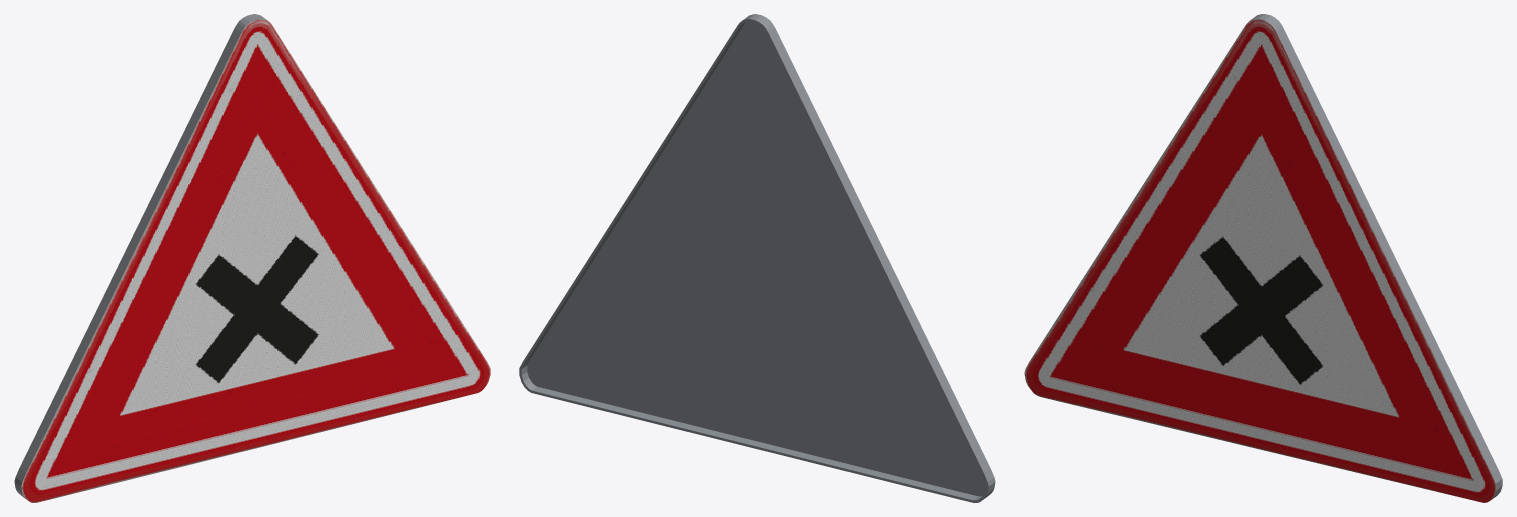
3 renders of one model, left to right at view 1: azimuth 30°, elevation 25°; view 2: azimuth 150°, elevation 25°; view 3: azimuth 330°, elevation 25°, orthographic.
Parts seen in each view (by area): view 1: cat_979f4bb6411312fc; view 2: cat_979f4bb6411312fc; view 3: cat_979f4bb6411312fc.
Boxes of the visible parts, <box> form: cat_979f4bb6411312fc: <box>14,14,490,502</box>; cat_979f4bb6411312fc: <box>519,14,995,502</box>; cat_979f4bb6411312fc: <box>1024,14,1502,502</box>.
Bounding box in the file's own units: 0.6 × 0.015 × 0.5245.
Materials: 2 (1 with a texture image).
